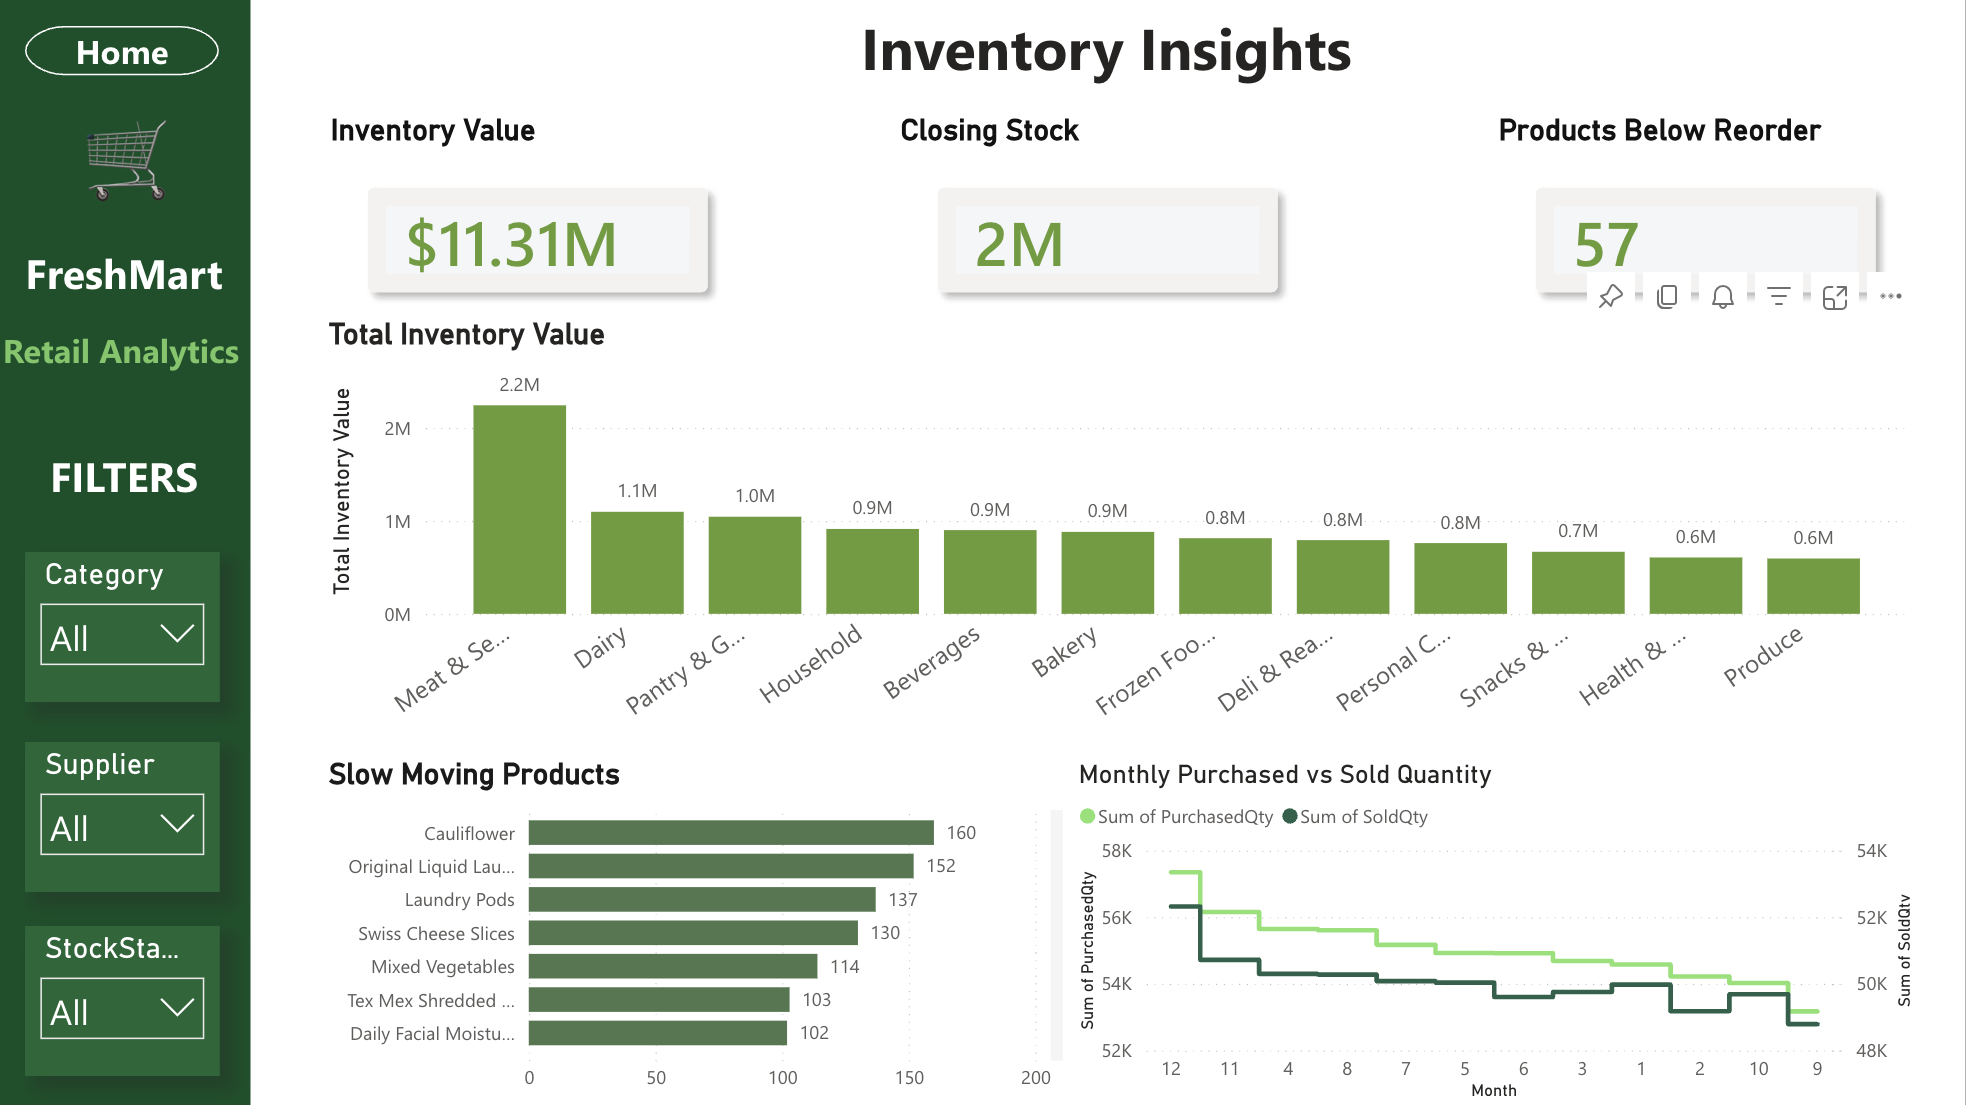

What the dashboard file says about the page in this screenshot:
{"tool":"powerbi","page":{"name":"Inventory Insights","canvas":[1280,720],"ordinal":3},"visuals":[{"type":"shape","box":[0,0,166.1,719.9],"z":0},{"type":"textbox","box":[353.2,1.7,737.3,67.2],"z":1000},{"type":"cardVisual","title":"Inventory Value","fields":{"Data":["Measure.Total Inventory Value"]},"box":[213.3,76.4,279,144],"z":2000},{"type":"cardVisual","title":"Closing Stock","fields":{"Data":["Measure.Total Closing Stock"]},"box":[583.1,76.4,279,144],"z":3000},{"type":"cardVisual","title":"Products Below Reorder","fields":{"Data":["Measure.Products Below Reorder"]},"box":[972.4,76.4,279,144],"z":4000},{"type":"clusteredColumnChart","title":"Total Inventory Value ","fields":{"Category":["ProductMaster.Category"],"Y":["Measure.Total Inventory Value"]},"box":[211.8,208.9,1036.4,272],"z":5000},{"type":"clusteredBarChart","title":"Slow Moving Products","fields":{"Category":["ProductMaster.ProductName"],"Y":["Measure.Units Sold"]},"box":[211.8,495.5,487.1,224.5],"z":6000},{"type":"lineChart","title":"Monthly Purchased vs Sold Quantity","fields":{"Category":["DateDimension.Month"],"Y":["Sum(InventoryFact.PurchasedQty)"],"Y2":["Sum(InventoryFact.SoldQty)"]},"box":[699,496,550,224],"z":7000},{"type":"textbox","box":[0,49.6,166.4,651.2],"z":8000},{"type":"pageNavigator","box":[19.2,17.6,126.4,32],"z":9000},{"type":"textbox","box":[1.6,268.8,164.8,249.6],"z":9001},{"type":"slicer","fields":{"Values":["Categories.CategoryName"]},"box":[19.2,360,126.4,97.6],"z":9002},{"type":"slicer","fields":{"Values":["Supplier_Master.SupplierName"]},"box":[19.2,483.2,126.4,97.6],"z":9003},{"type":"slicer","fields":{"Values":["InventoryFact.StockStatus"]},"box":[19.2,603.2,126.4,97.6],"z":9004}]}

Visuals, with their boxes in screenshot pixels (x1, y1, x2, y2), scaled from the page's 1280x720 canvas onto the 1966x1105 screenshot:
shape: (0,0,255,1104)
textbox: (542,3,1675,106)
"Inventory Value" cardVisual: (328,117,756,338)
"Closing Stock" cardVisual: (896,117,1324,338)
"Products Below Reorder" cardVisual: (1494,117,1922,338)
"Total Inventory Value " clusteredColumnChart: (325,321,1917,738)
"Slow Moving Products" clusteredBarChart: (325,760,1073,1104)
"Monthly Purchased vs Sold Quantity" lineChart: (1074,761,1918,1104)
textbox: (0,76,256,1076)
pageNavigator: (29,27,224,76)
textbox: (2,413,256,796)
slicer - Categories.CategoryName: (29,552,224,702)
slicer - Supplier_Master.SupplierName: (29,742,224,891)
slicer - InventoryFact.StockStatus: (29,926,224,1076)
